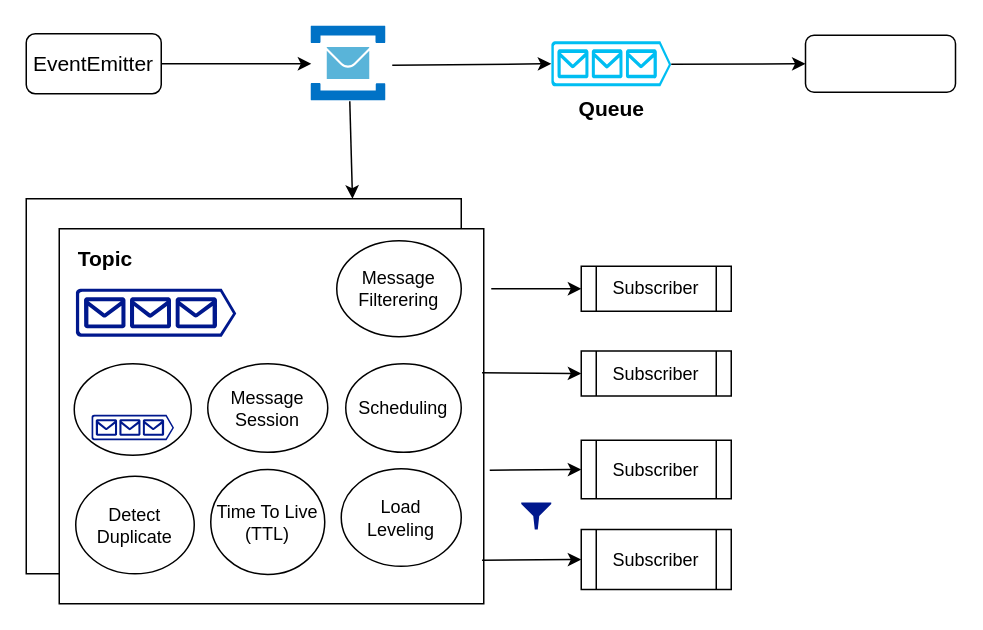
Image size: 983x630. Some labels were removed from this diagram. The shapes that lost their labels are listed below. From the top down, each one's box as (x1, y1, x2, y2) in pixels, then its label:
(310, 26, 386, 100): Azure ServiceBus
(804, 34, 956, 92): EventListener
(73, 362, 191, 455): Dead Letter
(520, 502, 550, 529): Filter
